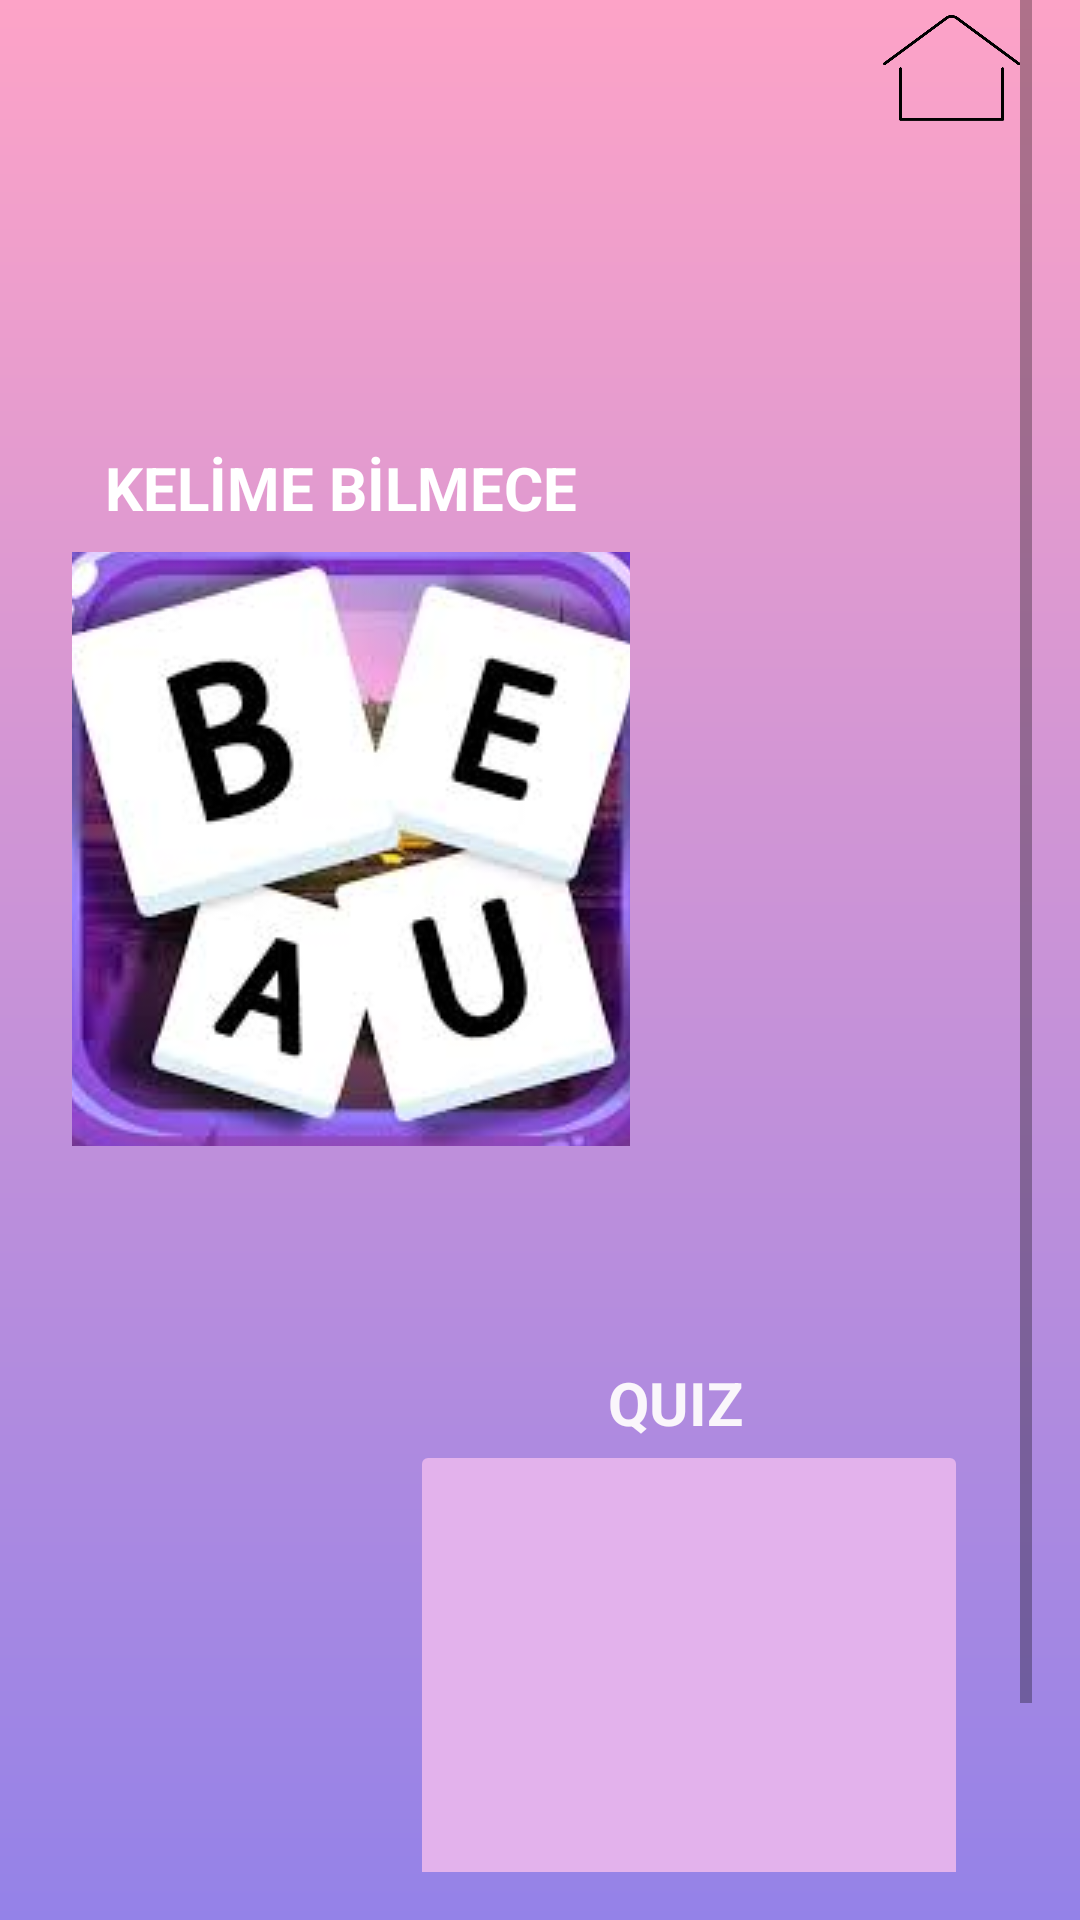

Screen size 1080px x 1920px. Icon name, then its box in pixels as {"left": x1, "top": y1, "right": x2, "bottom": y2}:
home: {"left": 883, "top": 12, "right": 1032, "bottom": 123}
